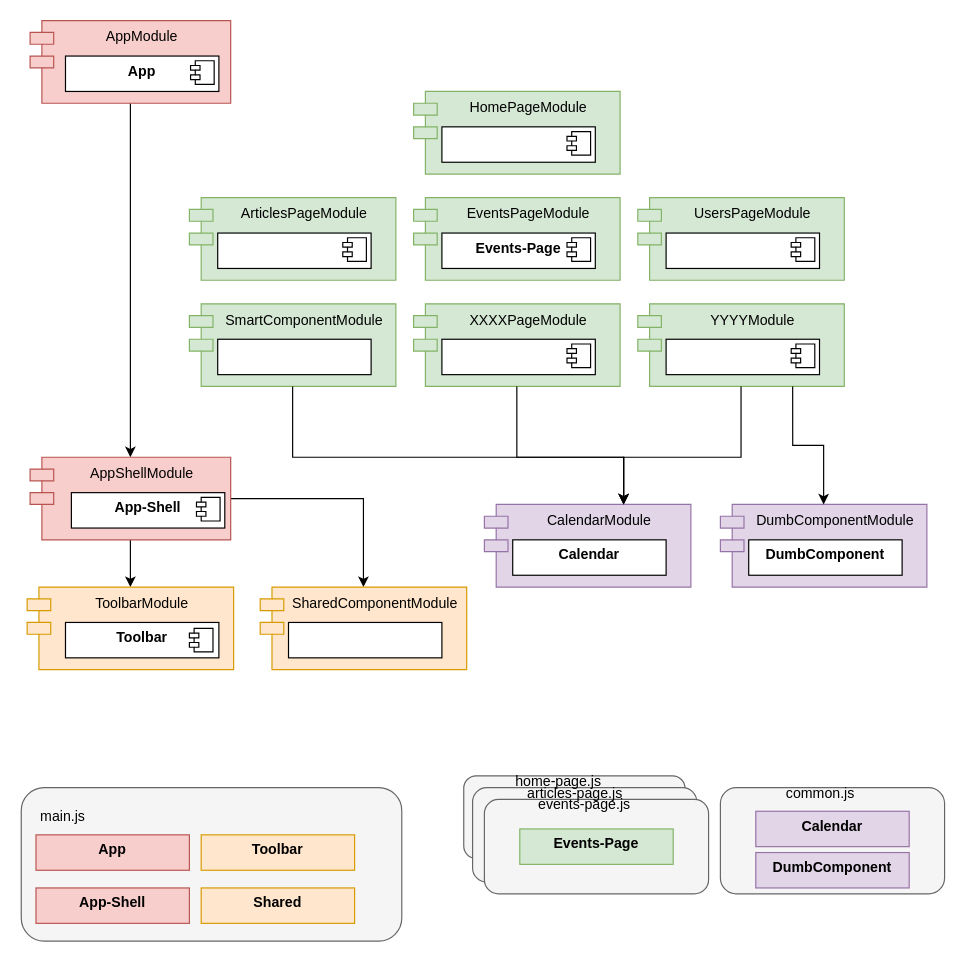
Some shapes in this 965 by 962 pixel diagram are drawn without their labels. The shapes that lost their labels are listed below. From the top down, each one's centre as x and y in pixels, then its label:
At [518,144]: "Home-Page".
At [294,250]: "Articles-Page".
At [742,250]: "Users-Page".
At [294,356]: "SmartComponent".
At [518,356]: "XXXX-Page".
At [742,356]: "YYY-Page".
At [364,639]: "SharedComponent".
